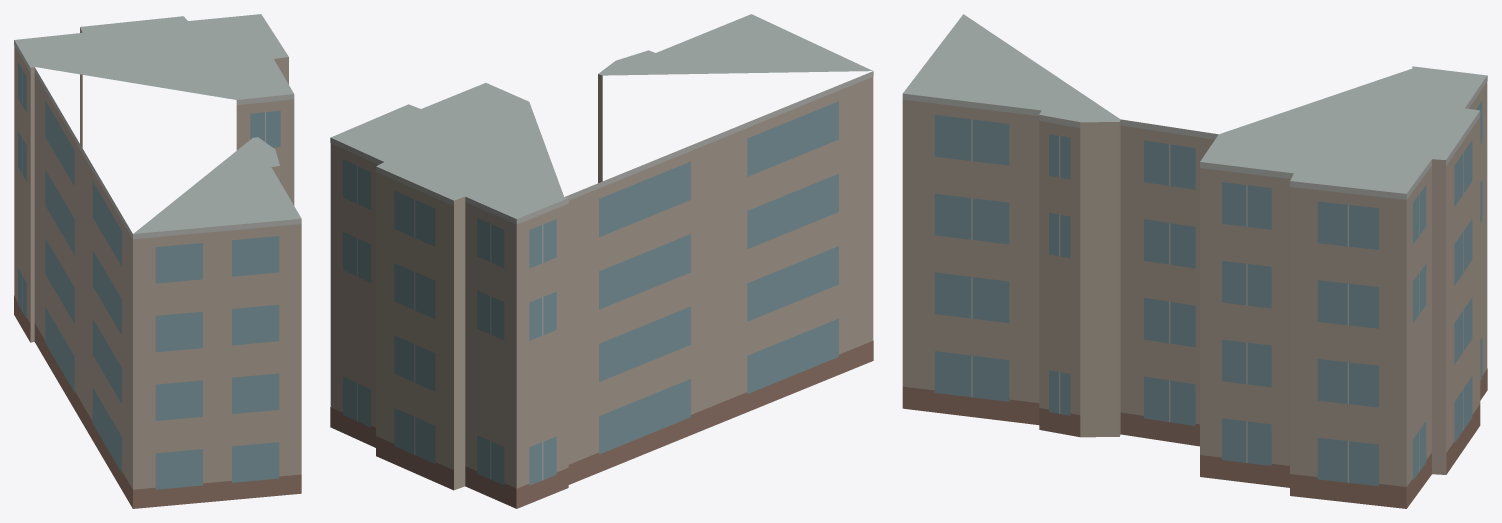
File: survey-upis-32632135.glb
3 renders of one model, left to right at view 1: azimuth 30°, elevation 25°; view 2: azimuth 150°, elevation 25°; view 3: azimuth 270°, elevation 25°, orthographic. The views are drawn at different scales.
Parts seen in each view (by area): view 1: survey-upis-32632135.tmp; view 2: survey-upis-32632135.tmp; view 3: survey-upis-32632135.tmp.
Part boxes in pixels (<box>): survey-upis-32632135.tmp: <box>14,14,301,508</box>; survey-upis-32632135.tmp: <box>330,14,873,508</box>; survey-upis-32632135.tmp: <box>902,14,1487,508</box>.
Size of the model in its own units: 15.69 by 12.8 by 21.55.
